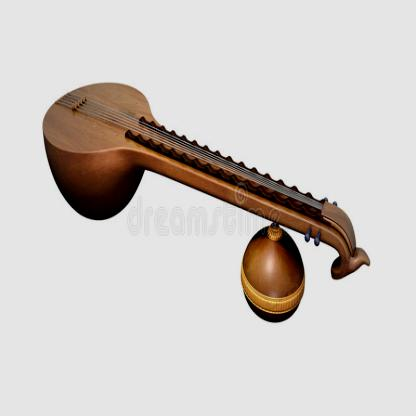Veena: (32, 71, 390, 219)
